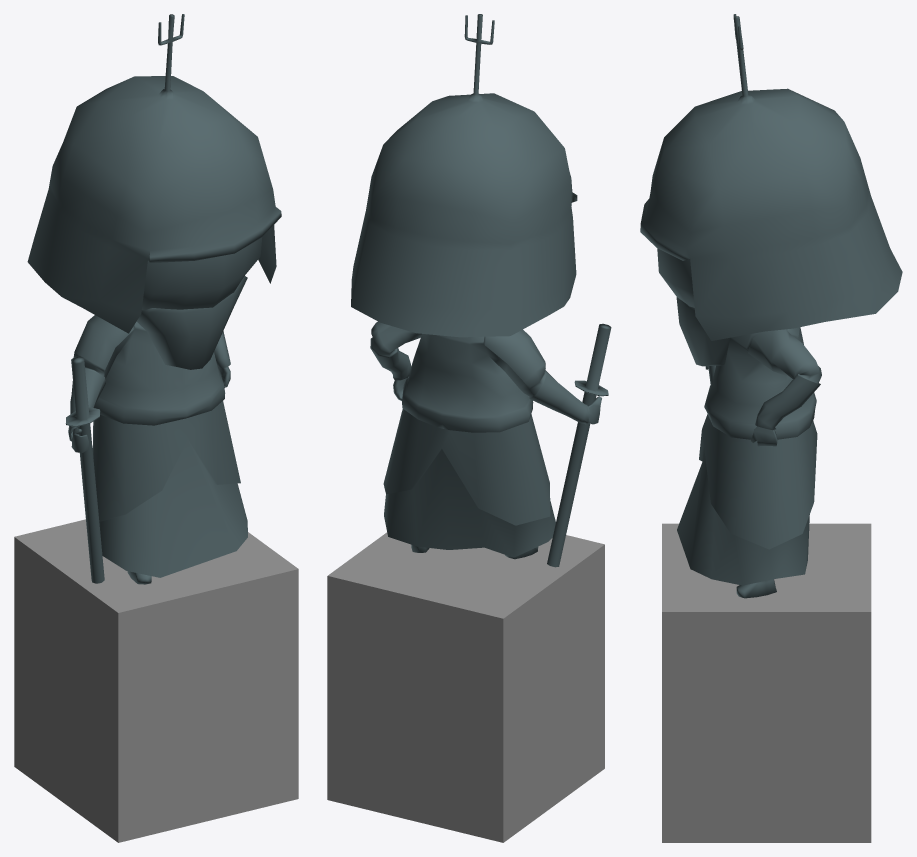
The model's file is Statue_01.fbx.
The picture shows the model from 3 angles, left to right: view 1: azimuth 30°, elevation 25°; view 2: azimuth 150°, elevation 25°; view 3: azimuth 270°, elevation 25°; orthographic projection. The views are drawn at different scales.
Parts seen in each view (by area): view 1: Statue_01; view 2: Statue_01; view 3: Statue_01.
Boxes of the visible parts, box(x1,y1,x2,y2) form: Statue_01: box(14, 14, 298, 842); Statue_01: box(327, 14, 611, 842); Statue_01: box(640, 14, 902, 842).
Size of the model in its own units: 190 by 657 by 200.
Materials: 1 (1 with a texture image).
